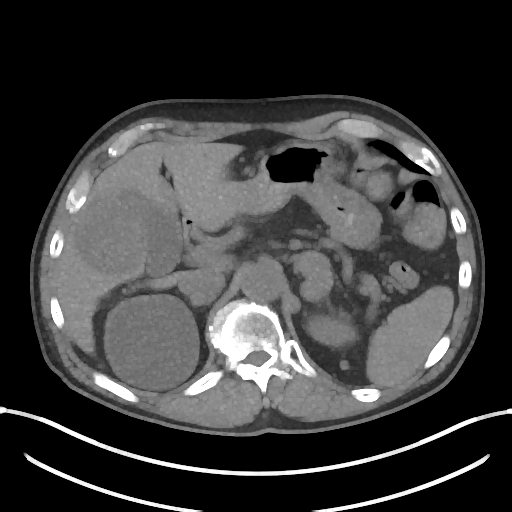Lesion: (108, 302, 201, 391)
